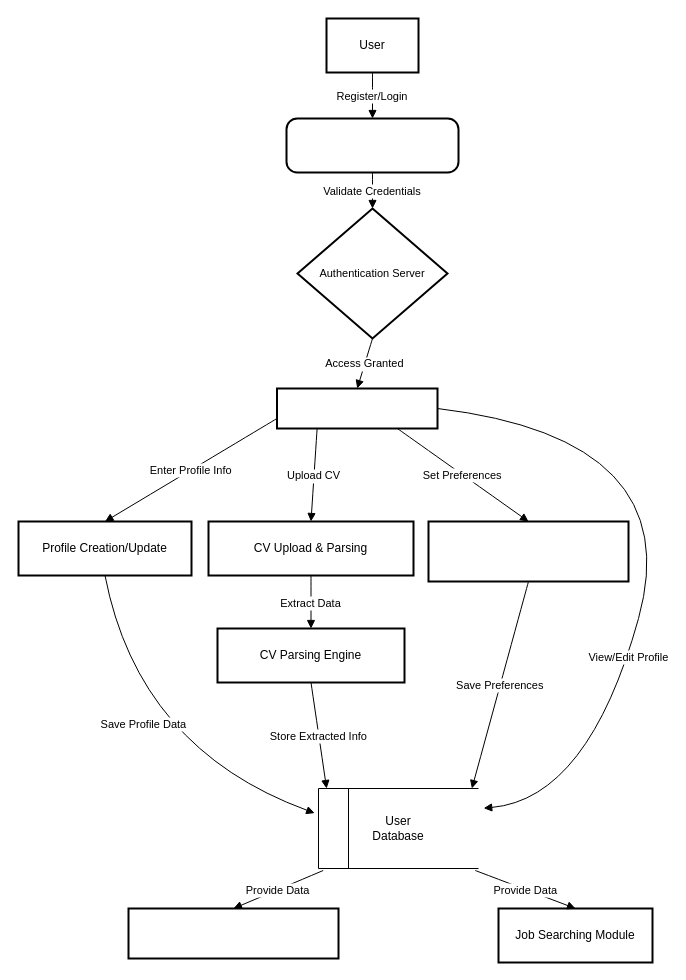
This 686x980 diagram has some shape labels left out. Here are the shapes that lost their labels. From the top down, the box of each, then its label:
(285, 117, 459, 173): User Authentication
(276, 387, 438, 429): User Dashboard
(427, 520, 629, 582): User Preference Management
(127, 907, 339, 959): Job Recommendation Engine
